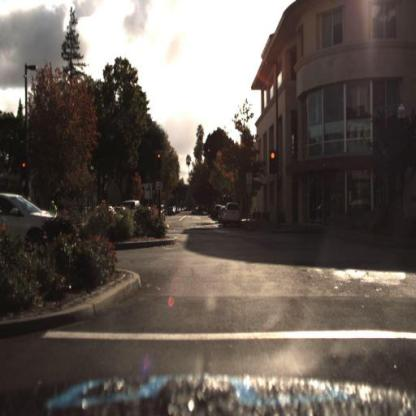car: (3, 187, 74, 259), (221, 199, 246, 228), (158, 205, 168, 220)
pedestrian: (329, 191, 339, 226), (332, 193, 339, 223)
trafficLight: (21, 157, 29, 178)
trafficLight-Red: (269, 149, 277, 175), (155, 151, 163, 176)
